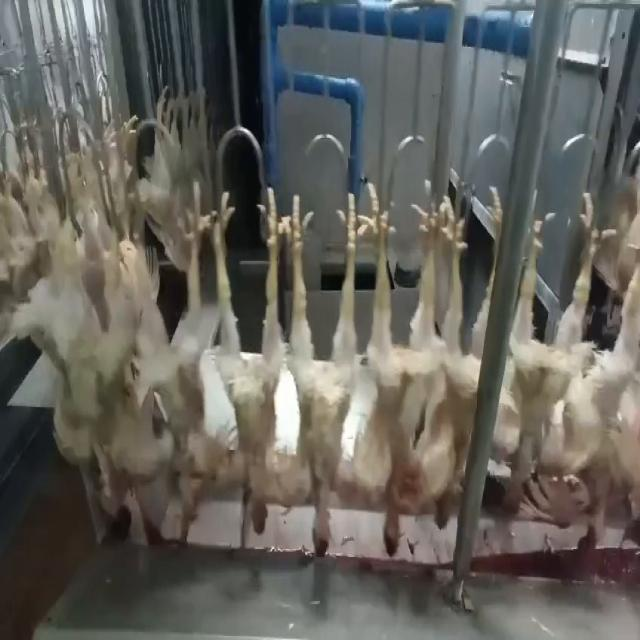chicken: (492, 198, 597, 535), (276, 185, 366, 563), (352, 187, 436, 566), (214, 183, 285, 534), (150, 181, 213, 527), (428, 195, 482, 539), (585, 195, 638, 537), (94, 203, 149, 518)
